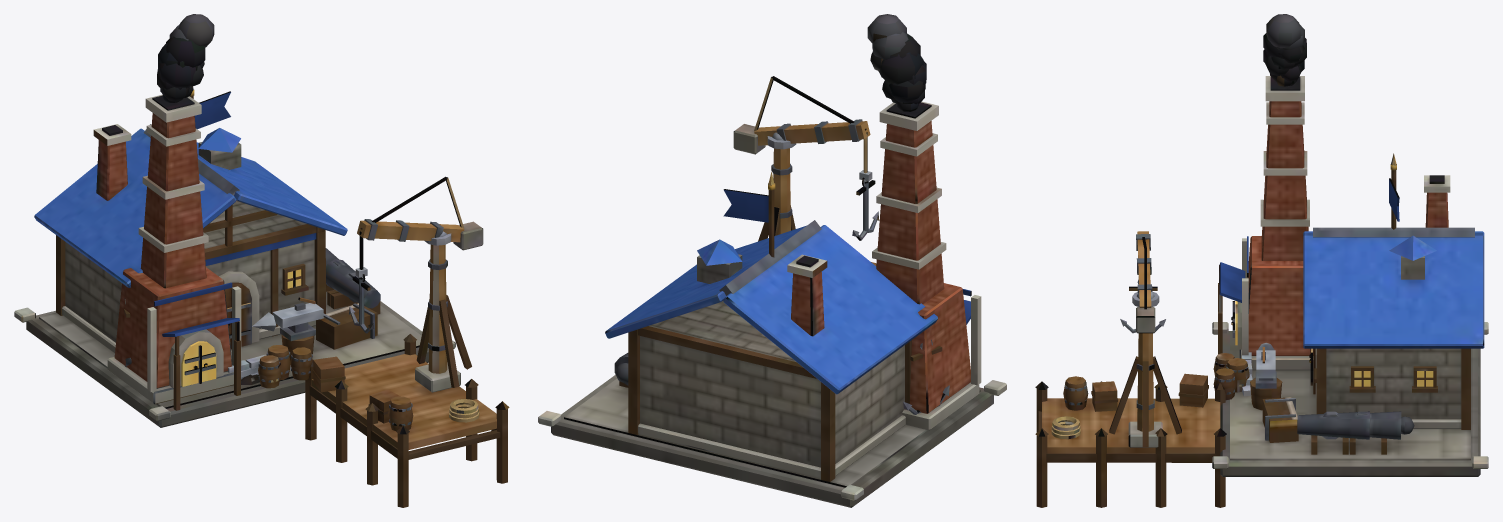
File: foundry.glb
3 views of the same model, side by side, from view 1: azimuth 30°, elevation 25°; view 2: azimuth 150°, elevation 25°; view 3: azimuth 270°, elevation 25° (orthographic). The views are drawn at different scales.
Parts seen in each view (by area): view 1: Static_Mesh, Anim_Crane, Anim_Smoke, Anim_Banners; view 2: Static_Mesh, Anim_Crane, Anim_Smoke, Anim_Banners; view 3: Static_Mesh, Anim_Smoke, Anim_Crane, Anim_Banners.
Boxes of the visible parts, bbox=[...] form: Static_Mesh: bbox=[14, 87, 509, 507]; Anim_Crane: bbox=[349, 176, 483, 333]; Anim_Smoke: bbox=[157, 14, 214, 102]; Anim_Banners: bbox=[154, 91, 316, 336]; Static_Mesh: bbox=[538, 101, 1006, 507]; Anim_Crane: bbox=[733, 76, 879, 240]; Anim_Smoke: bbox=[867, 14, 926, 111]; Anim_Banners: bbox=[723, 189, 971, 324]; Static_Mesh: bbox=[1035, 76, 1488, 507]; Anim_Smoke: bbox=[1263, 14, 1306, 86]; Anim_Crane: bbox=[1120, 231, 1165, 333]; Anim_Banners: bbox=[1219, 178, 1399, 302].
Size of the model in its own units: 6.94 by 9.26 by 9.41.
Materials: 2 (2 with a texture image).
